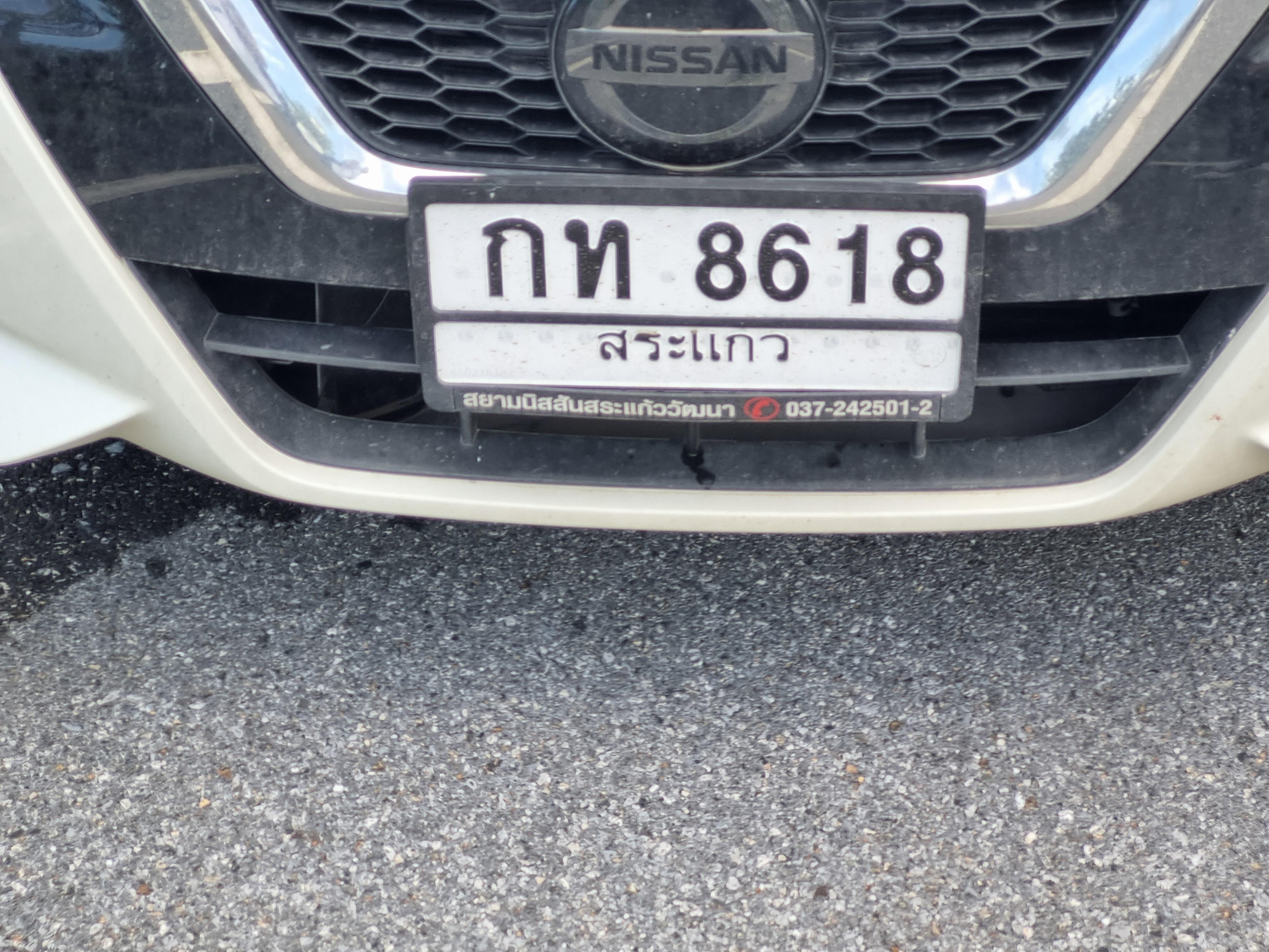license-plate: (402, 168, 977, 433)
